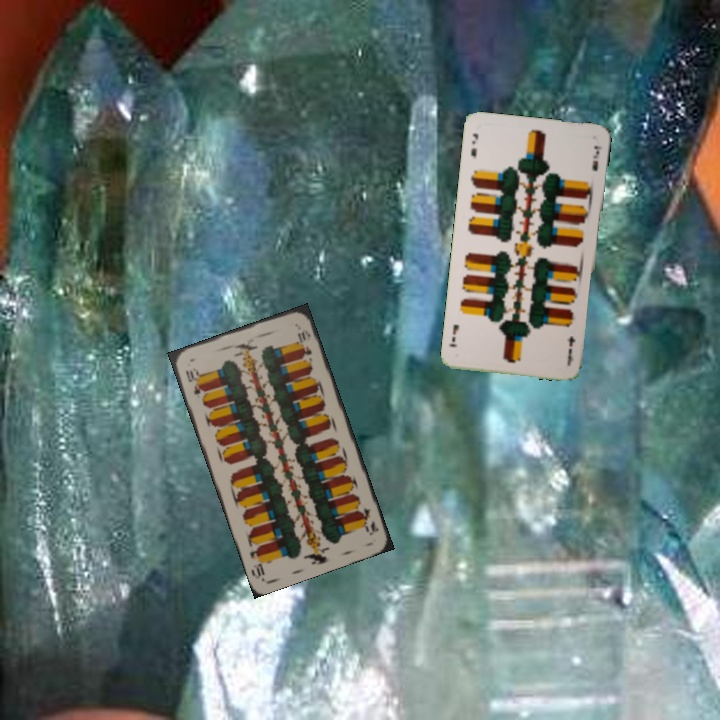E10: (354, 500, 381, 538), (181, 364, 205, 398)
E7: (564, 332, 578, 366), (467, 130, 481, 161)
